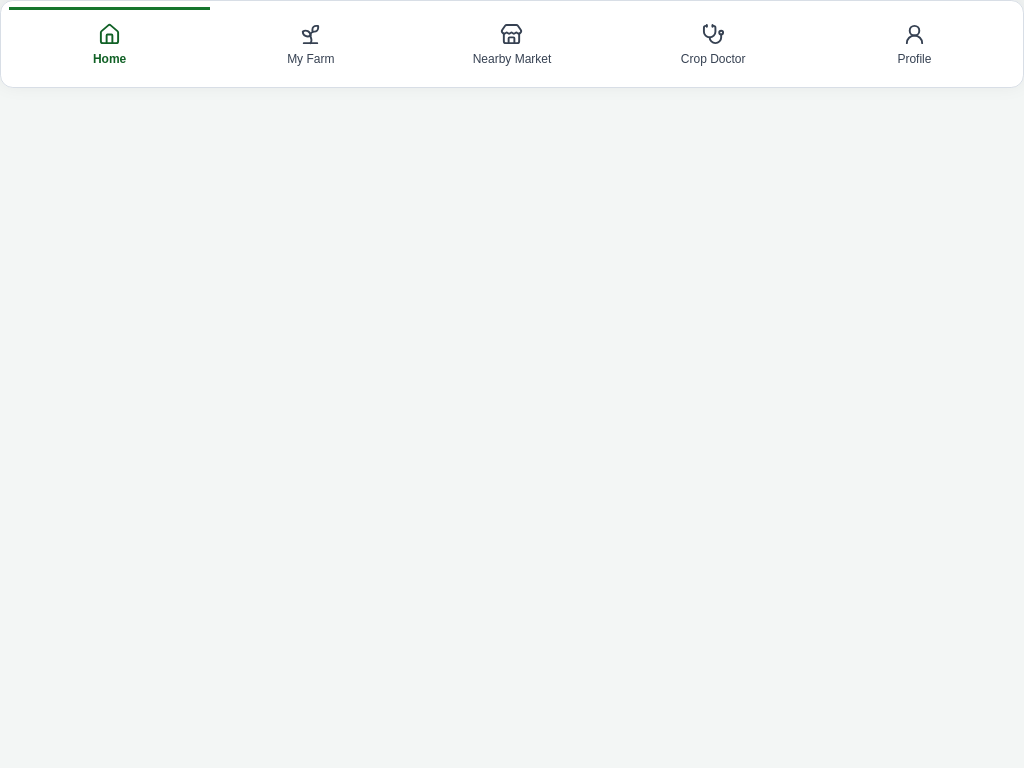
Test: BottomNavigation › shows the five primary destinations and opens the profile drawer
Expected: the navigation bar named "Primary" reads "Home My Farm Nearby Market Crop Doctor Profile", [0,0,1023,88]
Click the button "Profile" at (914, 44), box [814,7,1015,81]
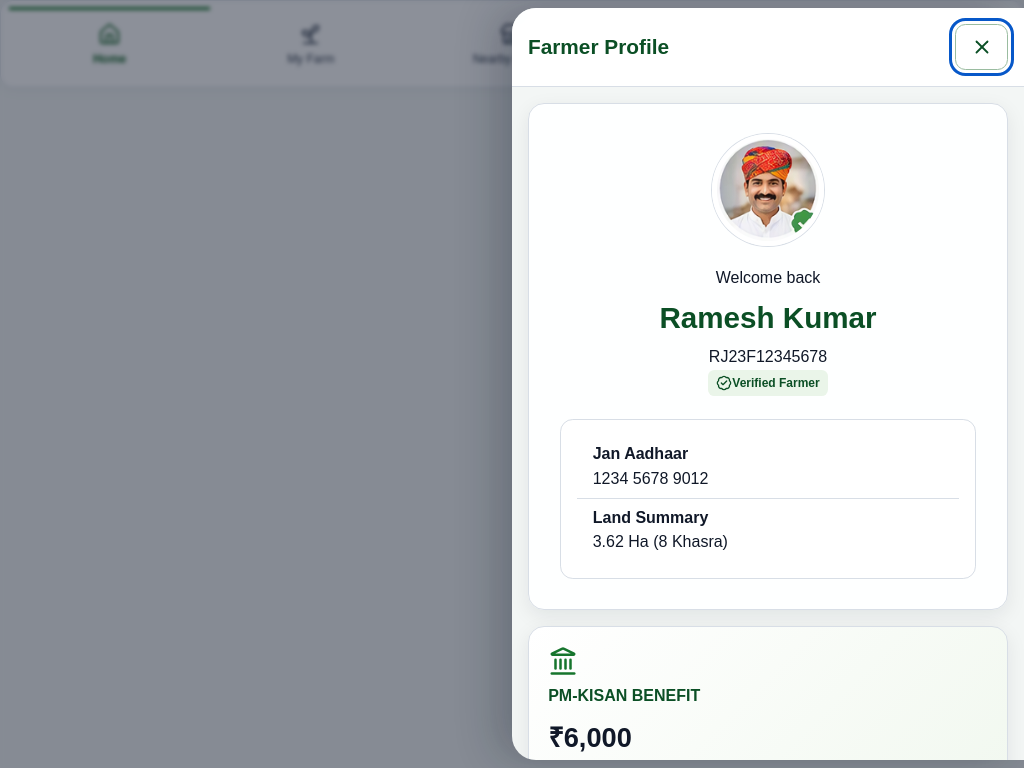
Now the dialog "Farmer Profile" is shown, box [512,8,1023,760]
Now the heading "Ramesh Kumar" is shown, box [659,301,876,334]
